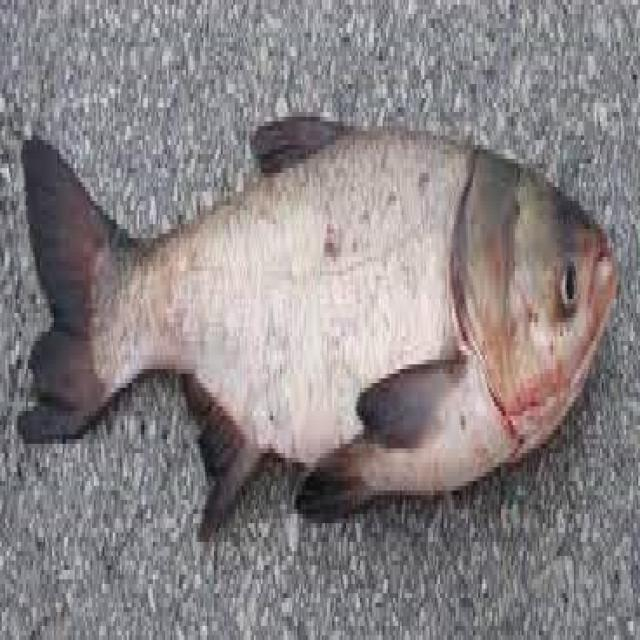Big-Head-Carp: (17, 55, 624, 605)
